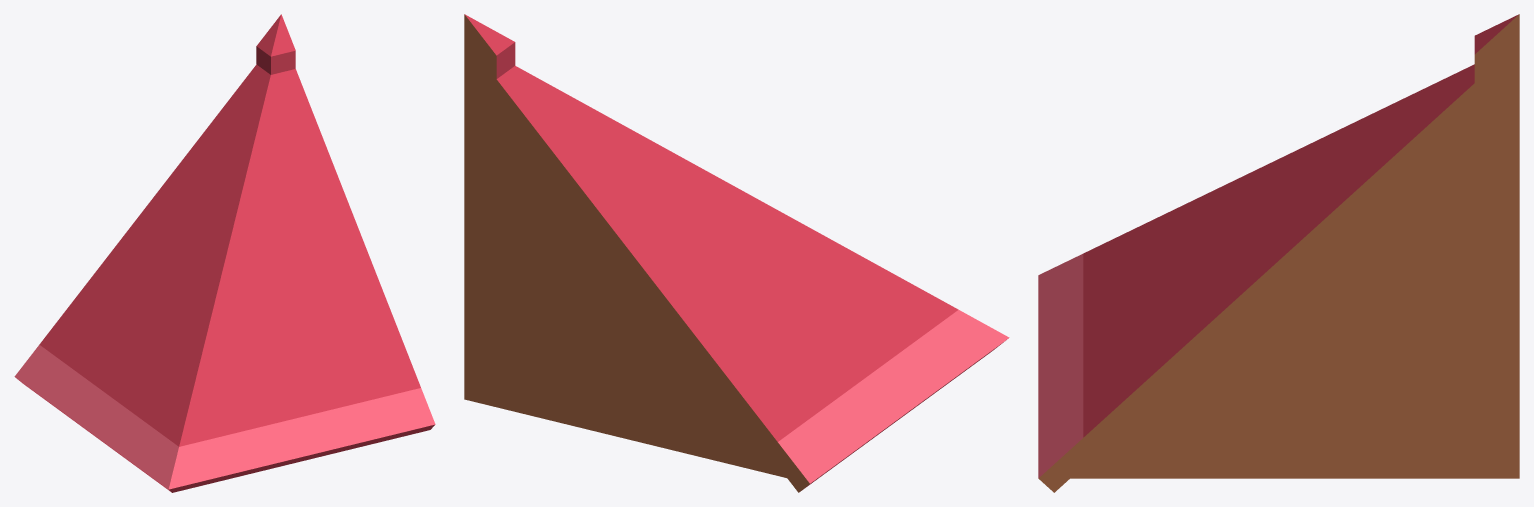
Rendered from roofHighCorner.obj.
The picture shows the model from 3 angles, left to right: view 1: azimuth 30°, elevation 25°; view 2: azimuth 150°, elevation 25°; view 3: azimuth 270°, elevation 25°; orthographic projection. The views are drawn at different scales.
Parts seen in each view (by area): view 1: roofHighCorner; view 2: roofHighCorner; view 3: roofHighCorner.
Part boxes in pixels (bbox=[...]): roofHighCorner: bbox=[14, 14, 435, 492]; roofHighCorner: bbox=[464, 14, 1009, 492]; roofHighCorner: bbox=[1038, 14, 1519, 492].
Bounding box in the file's own units: 1.07 × 1.18 × 1.07.
